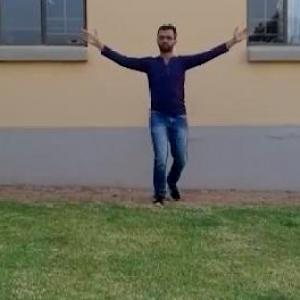takeoff: (77, 21, 240, 194)
